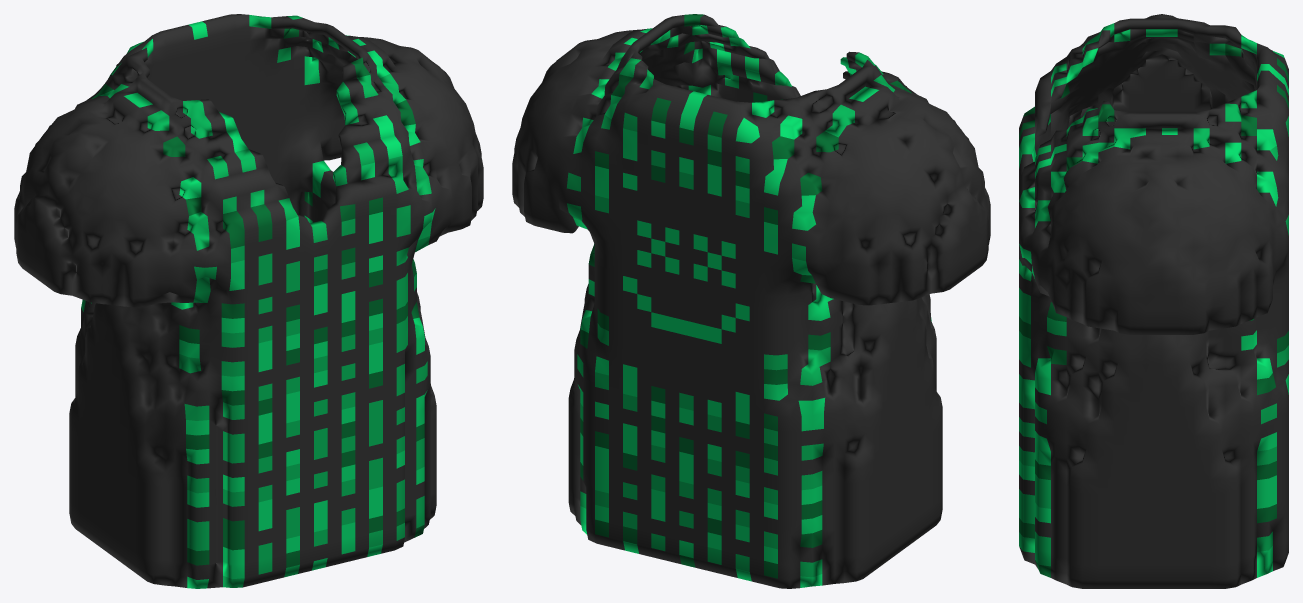
3 views of the same model, side by side, from view 1: azimuth 30°, elevation 25°; view 2: azimuth 150°, elevation 25°; view 3: azimuth 270°, elevation 25° (orthographic). The views are drawn at different scales.
Size of the model in its own units: 1.55 by 1.58 by 0.85.
